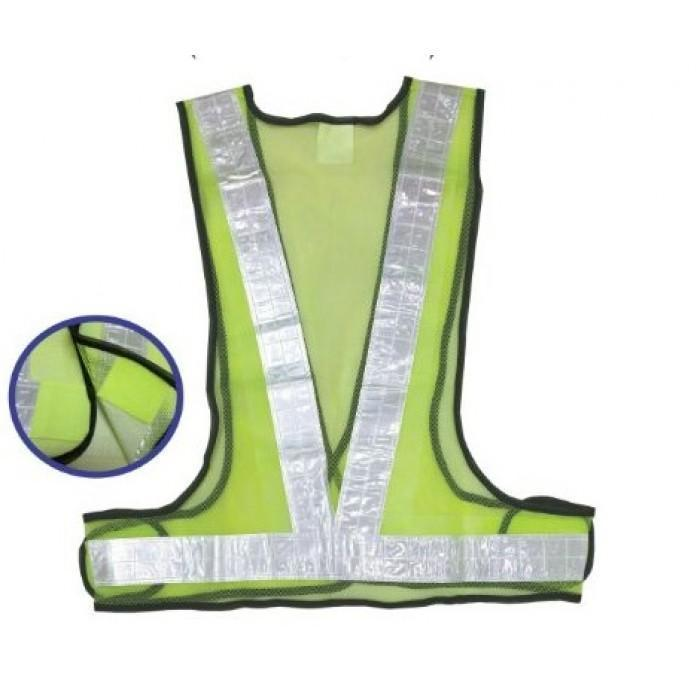vest: (78, 80, 597, 606)
